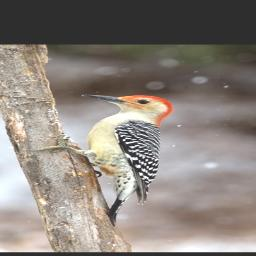Woodpecker: (29, 94, 173, 225)
